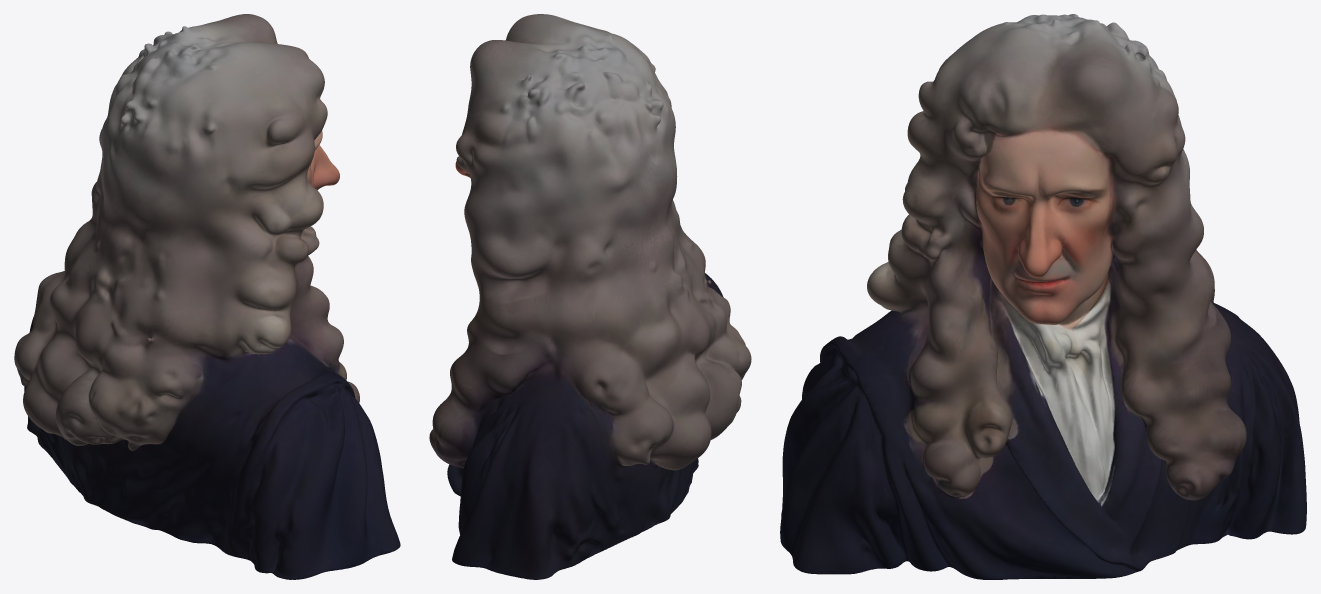
The model's file is isaac-newton.glb.
3 views of the same model, side by side, from view 1: azimuth 30°, elevation 25°; view 2: azimuth 150°, elevation 25°; view 3: azimuth 270°, elevation 25° (orthographic). The views are drawn at different scales.
Parts seen in each view (by area): view 1: tripo_node_cbedec8f-7e13-4201-8b1e-da474ac4a531; view 2: tripo_node_cbedec8f-7e13-4201-8b1e-da474ac4a531; view 3: tripo_node_cbedec8f-7e13-4201-8b1e-da474ac4a531.
Part boxes in pixels (<box>): tripo_node_cbedec8f-7e13-4201-8b1e-da474ac4a531: <box>14,14,400,579</box>; tripo_node_cbedec8f-7e13-4201-8b1e-da474ac4a531: <box>429,14,751,579</box>; tripo_node_cbedec8f-7e13-4201-8b1e-da474ac4a531: <box>780,14,1306,579</box>.
Bounding box in the file's own units: 0.6573 × 1 × 0.9464.
1 material, 1 textured.
